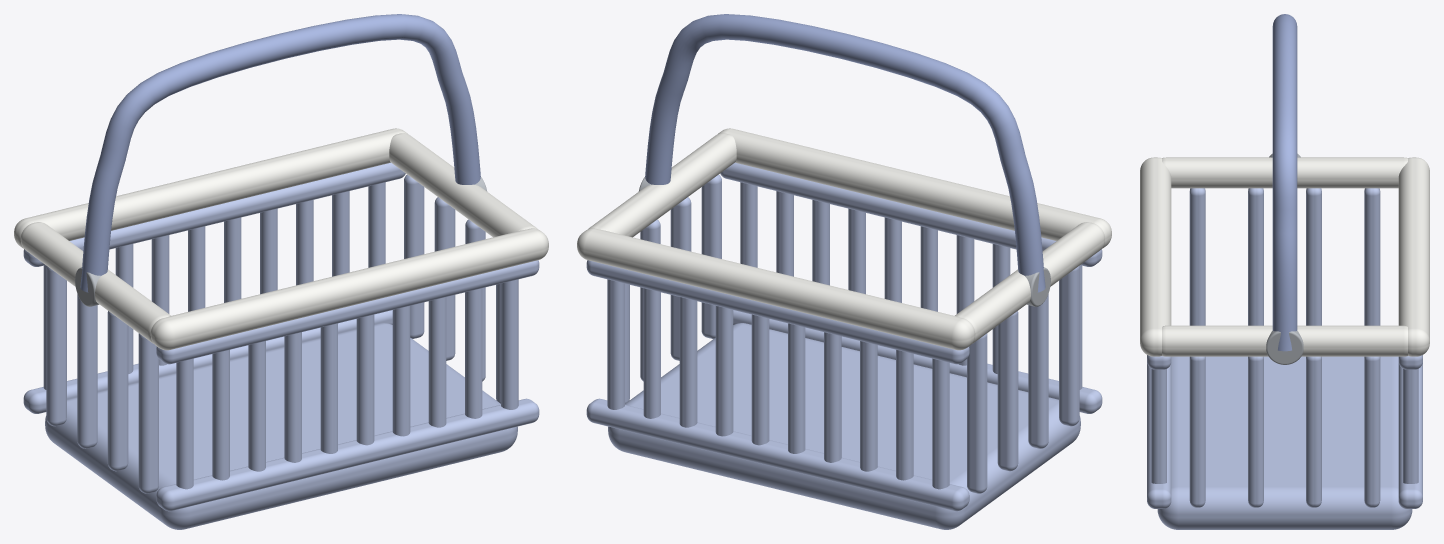
The model's file is market-basket.glb.
The picture shows the model from 3 angles, left to right: view 1: azimuth 30°, elevation 25°; view 2: azimuth 150°, elevation 25°; view 3: azimuth 270°, elevation 25°; orthographic projection. The views are drawn at different scales.
Parts seen in each view (by area): view 1: basket-base-001, folding-handle-038, reinforced-rim-035, reinforced-rim-034, slotted-sidewalls-024, slotted-sidewalls-013, slotted-sidewalls-025, reinforced-rim-037, reinforced-rim-036, slotted-sidewalls-028, slotted-sidewalls-026, slotted-sidewalls-029 (+23 smaller); view 2: basket-base-001, folding-handle-038, reinforced-rim-034, reinforced-rim-035, slotted-sidewalls-012, slotted-sidewalls-025, slotted-sidewalls-013, reinforced-rim-037, reinforced-rim-036, slotted-sidewalls-027, slotted-sidewalls-029, slotted-sidewalls-026 (+23 smaller); view 3: basket-base-001, folding-handle-038, reinforced-rim-037, reinforced-rim-036, reinforced-rim-034, reinforced-rim-035, slotted-sidewalls-030, slotted-sidewalls-033, slotted-sidewalls-031, slotted-sidewalls-032, slotted-sidewalls-026, slotted-sidewalls-029 (+7 smaller).
Boxes of the visible parts, x1=… form: basket-base-001: x1=45, y1=323, x2=517, y2=529; folding-handle-038: x1=80, y1=14, x2=480, y2=292; reinforced-rim-035: x1=150, y1=228, x2=548, y2=350; reinforced-rim-034: x1=14, y1=128, x2=407, y2=248; slotted-sidewalls-024: x1=156, y1=398, x2=539, y2=511; slotted-sidewalls-013: x1=23, y1=162, x2=405, y2=266; slotted-sidewalls-025: x1=156, y1=260, x2=539, y2=364; reinforced-rim-037: x1=389, y1=133, x2=537, y2=237; reinforced-rim-036: x1=21, y1=222, x2=170, y2=343; slotted-sidewalls-028: x1=107, y1=311, x2=128, y2=471; slotted-sidewalls-026: x1=46, y1=266, x2=66, y2=426; slotted-sidewalls-029: x1=138, y1=333, x2=158, y2=493; basket-base-001: x1=608, y1=323, x2=1080, y2=529; folding-handle-038: x1=645, y1=14, x2=1045, y2=292; reinforced-rim-034: x1=577, y1=228, x2=975, y2=350; reinforced-rim-035: x1=718, y1=128, x2=1111, y2=248; slotted-sidewalls-012: x1=586, y1=398, x2=969, y2=511; slotted-sidewalls-025: x1=720, y1=162, x2=1102, y2=266; slotted-sidewalls-013: x1=586, y1=260, x2=969, y2=364; reinforced-rim-037: x1=588, y1=133, x2=736, y2=237; reinforced-rim-036: x1=955, y1=222, x2=1104, y2=343; slotted-sidewalls-027: x1=997, y1=311, x2=1018, y2=471; slotted-sidewalls-029: x1=1059, y1=266, x2=1079, y2=426; slotted-sidewalls-026: x1=967, y1=333, x2=987, y2=493; basket-base-001: x1=1157, y1=356, x2=1412, y2=529; folding-handle-038: x1=1272, y1=14, x2=1297, y2=351; reinforced-rim-037: x1=1162, y1=325, x2=1407, y2=356; reinforced-rim-036: x1=1162, y1=157, x2=1407, y2=188; reinforced-rim-034: x1=1398, y1=157, x2=1429, y2=356; reinforced-rim-035: x1=1140, y1=157, x2=1171, y2=356; slotted-sidewalls-030: x1=1364, y1=356, x2=1380, y2=507; slotted-sidewalls-033: x1=1189, y1=356, x2=1205, y2=507; slotted-sidewalls-031: x1=1306, y1=356, x2=1321, y2=507; slotted-sidewalls-032: x1=1248, y1=356, x2=1263, y2=507; slotted-sidewalls-026: x1=1364, y1=188, x2=1380, y2=325; slotted-sidewalls-029: x1=1189, y1=188, x2=1205, y2=325.
Size of the model in its own units: 2 by 1.98 by 1.33.
